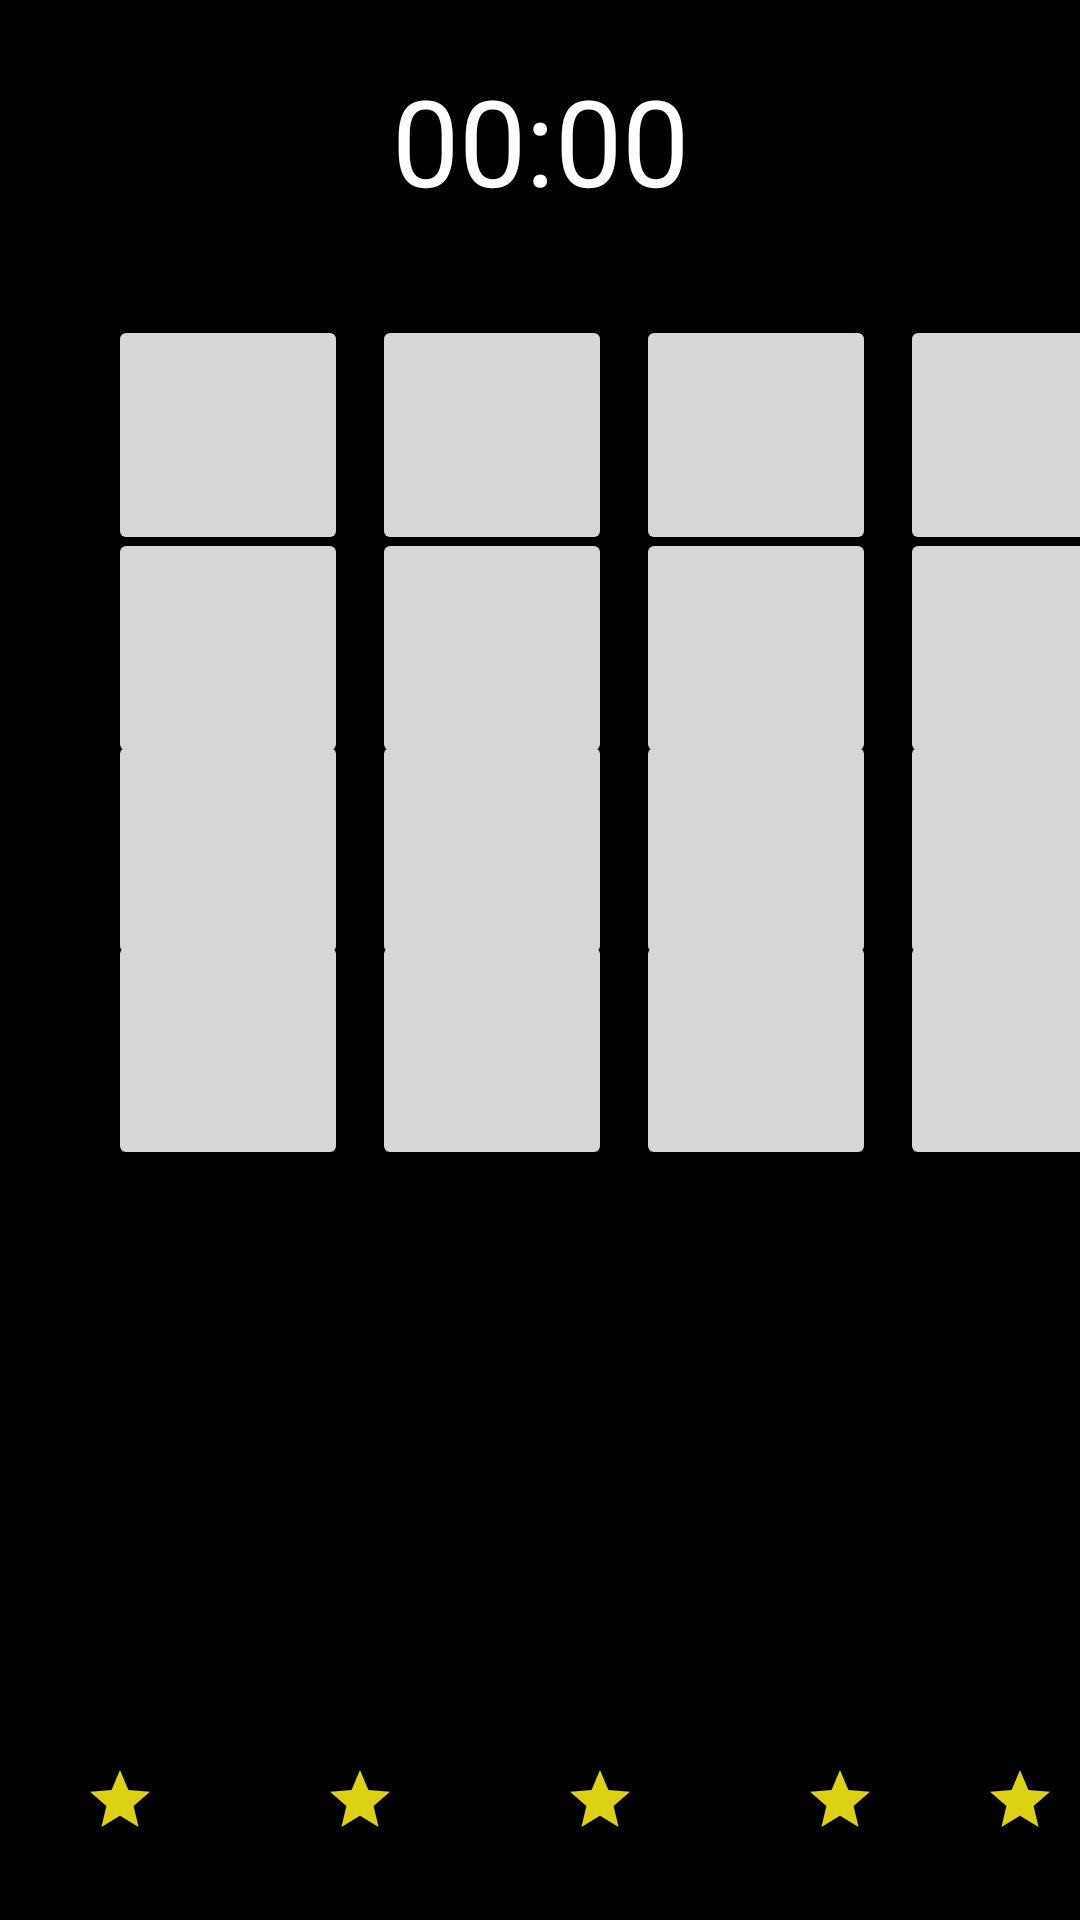

Screen size 1080x1920. Icon name, then its box in pixels as (x1, y1, x2, y2):
star: (90, 1770, 150, 1827), (330, 1770, 390, 1827), (570, 1770, 630, 1827), (810, 1770, 870, 1827), (990, 1770, 1050, 1827)
